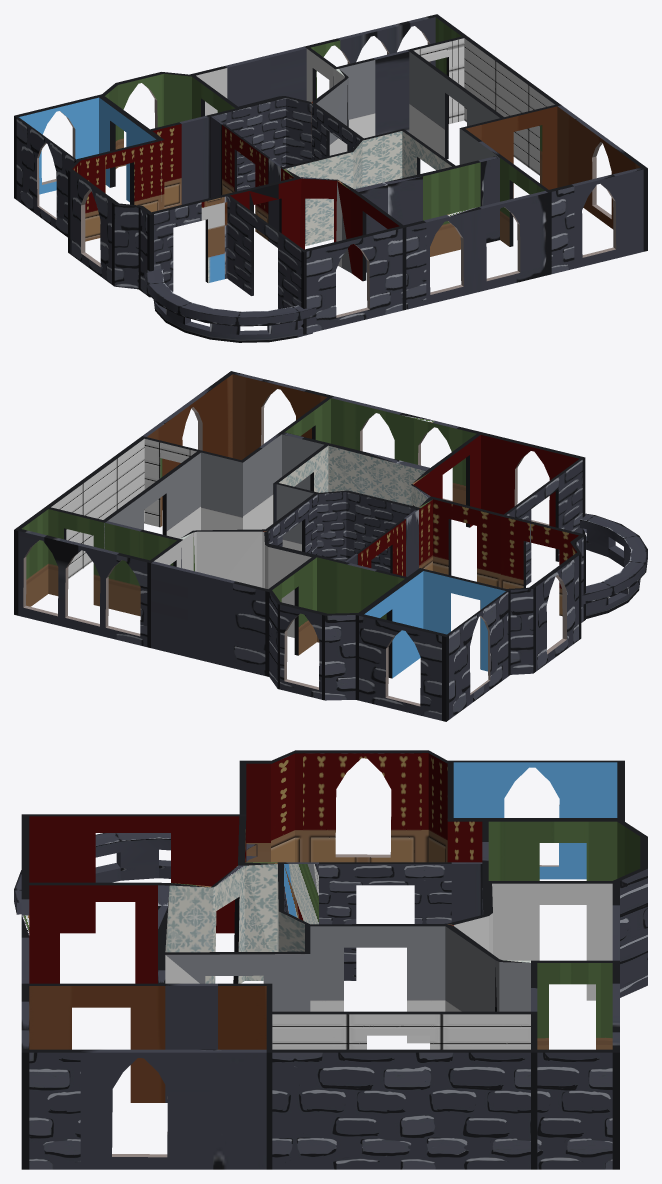
The model's file is House2.FBX.
The picture shows the model from 3 angles, top to bottom: view 1: azimuth 30°, elevation 25°; view 2: azimuth 150°, elevation 25°; view 3: azimuth 270°, elevation 25°; orthographic projection. The views are drawn at different scales.
Parts seen in each view (by area): view 1: pPlane8; view 2: pPlane8; view 3: pPlane8.
Boxes of the visible parts, box(x1,y1,x2,y2) form: pPlane8: box(14, 14, 647, 342); pPlane8: box(14, 371, 647, 721); pPlane8: box(14, 750, 647, 1169).
Bounding box in the file's own units: 5391 × 998 × 4733.
1 material, 1 textured.
